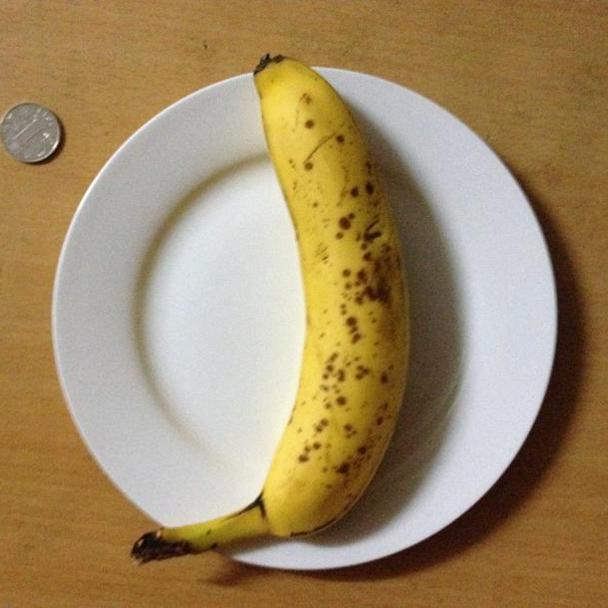banana: (224, 52, 422, 539)
